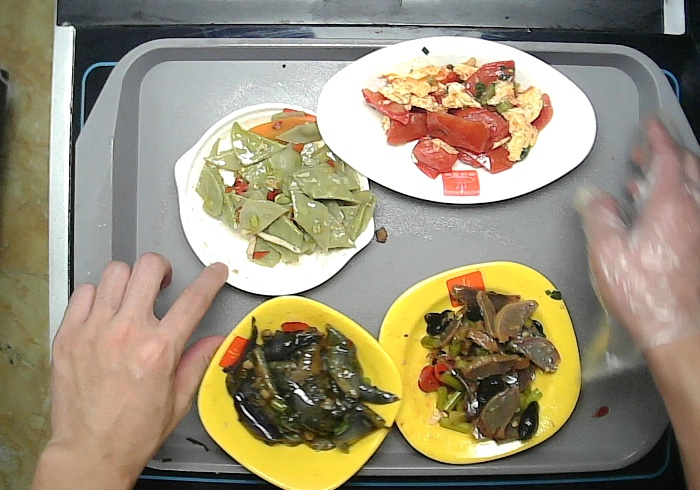SHKJ-Bao_Yu_Pan: (173, 101, 380, 297)
SHKJ-Huang_Se_Cai_Die: (193, 294, 403, 490)
SHKJ-Huang_Se_Si_Fang_Cai_Die: (379, 259, 582, 463)
SHKJ-Yu_Pan: (312, 33, 601, 204)
